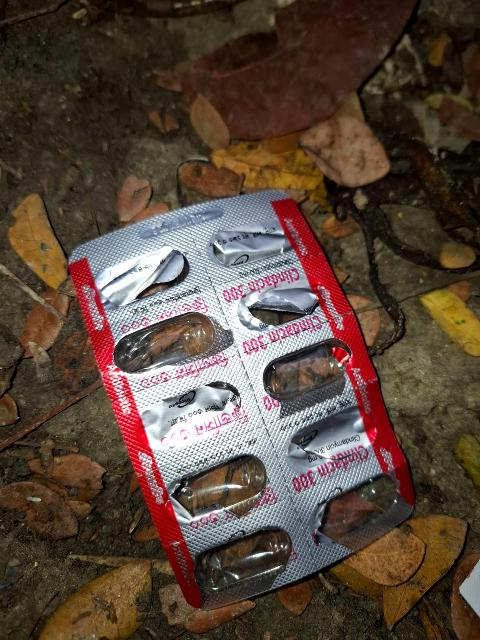medicine: (47, 153, 438, 613)
